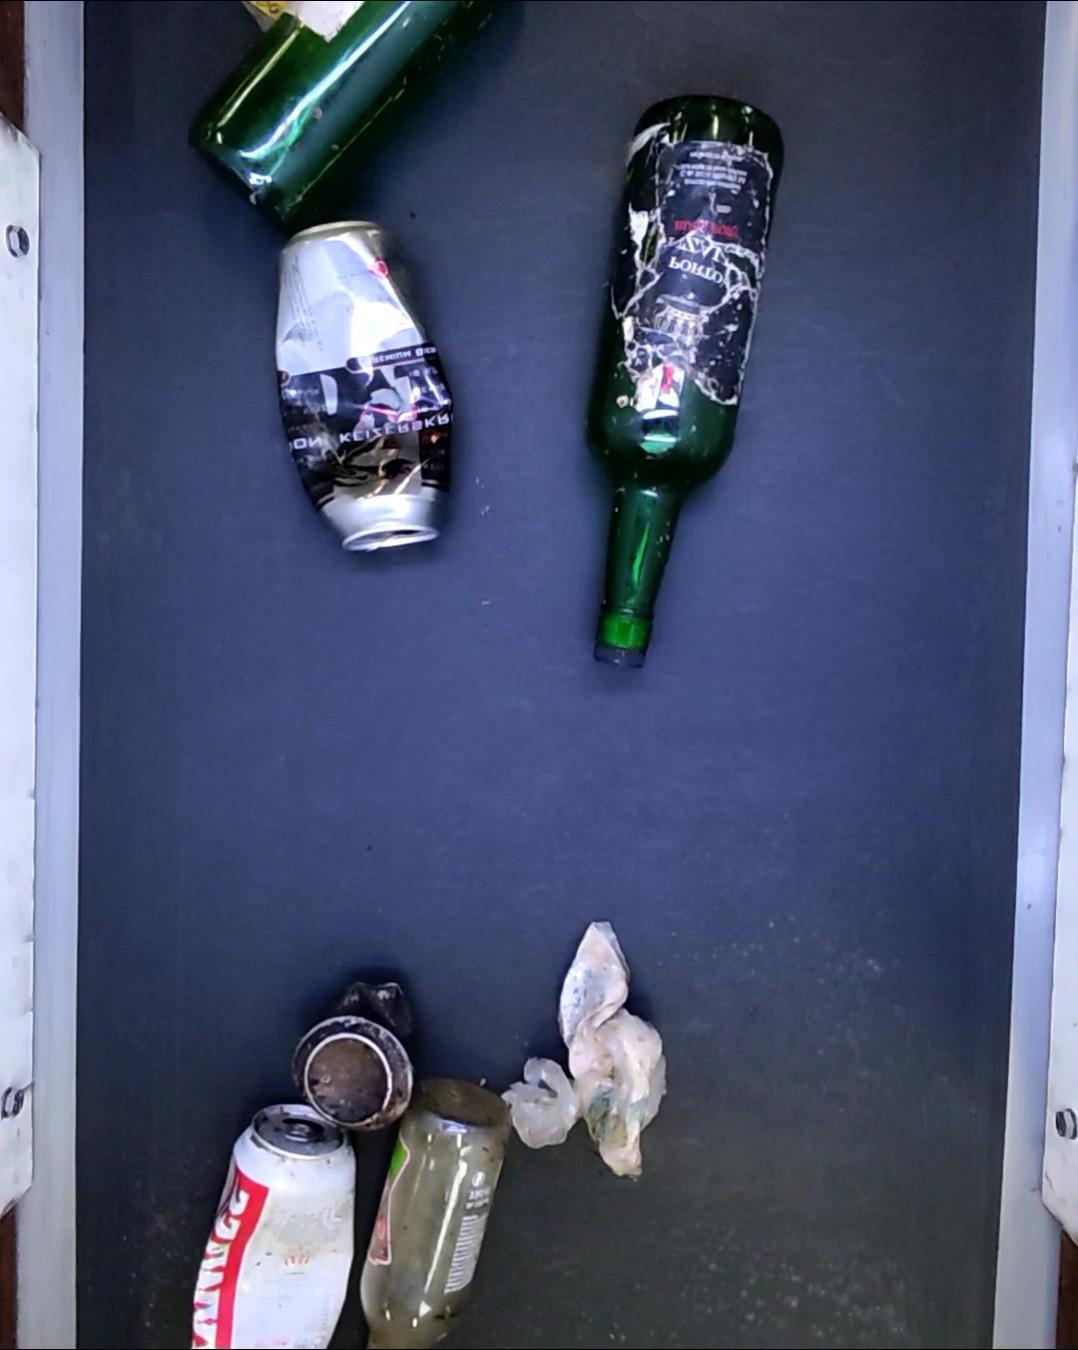Drankblikjes: (280, 222, 457, 557), (194, 1106, 353, 1350), (288, 975, 418, 1127)
Plastic folies of stukken daarvan 2.5- 50 cm: (507, 918, 663, 1188)
